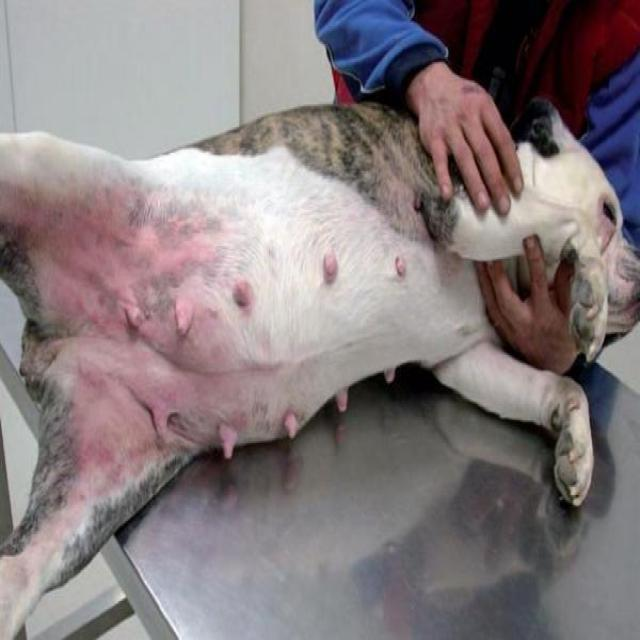viem da do vi khuan (cho): (0, 112, 332, 611)
